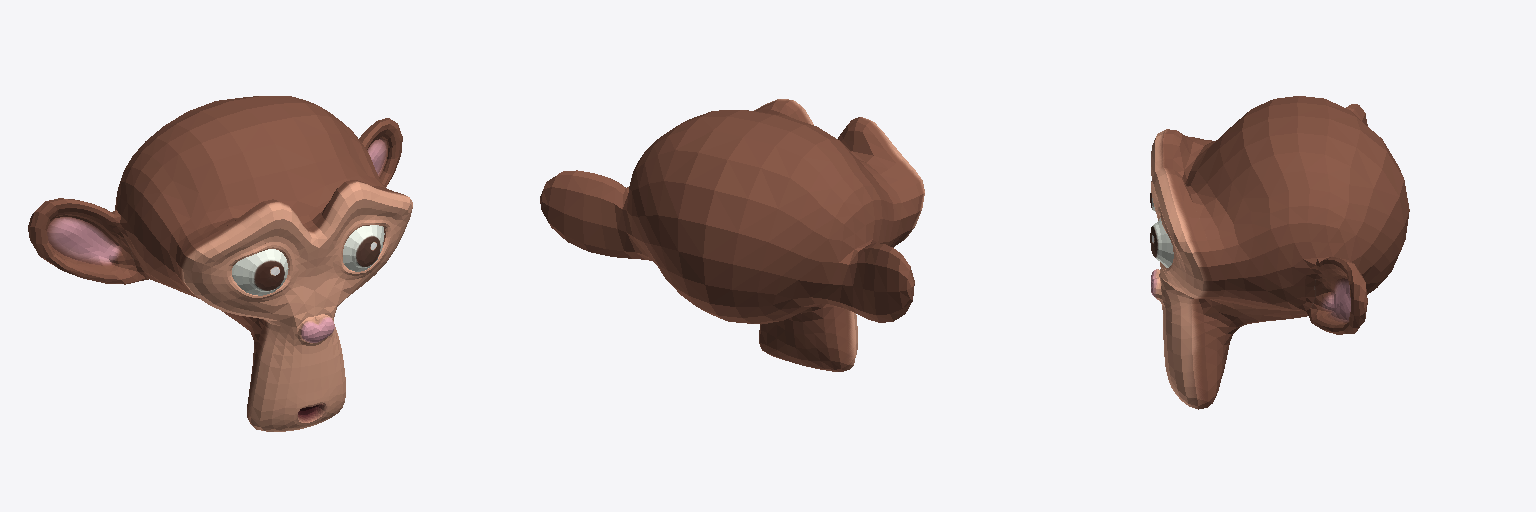
The picture shows the model from 3 angles: view 1: azimuth 30°, elevation 25°; view 2: azimuth 150°, elevation 25°; view 3: azimuth 270°, elevation 25°; orthographic projection.
Visible parts, largest first — view 1: Suzanne; view 2: Suzanne; view 3: Suzanne.
Boxes of the visible parts, <box> form: Suzanne: <box>28,96,412,431</box>; Suzanne: <box>540,99,924,371</box>; Suzanne: <box>1150,96,1409,409</box>.
Size of the model in its own units: 2.65 by 1.91 by 1.6.
1 materials, 1 textured.